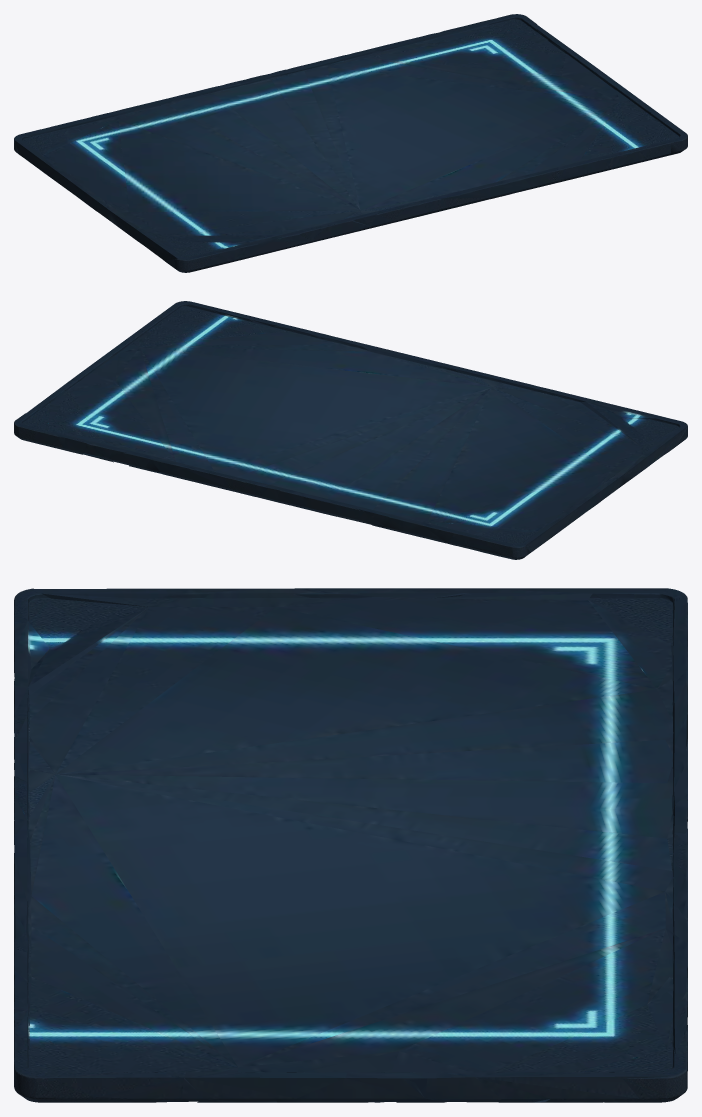
The model's file is rug.glb.
3 renders of one model, top to bottom at view 1: azimuth 30°, elevation 25°; view 2: azimuth 150°, elevation 25°; view 3: azimuth 270°, elevation 25°, orthographic. The views are drawn at different scales.
Bounding box in the file's own units: 1.9 × 0.0526 × 1.11.
Materials: 1 (1 with a texture image).
